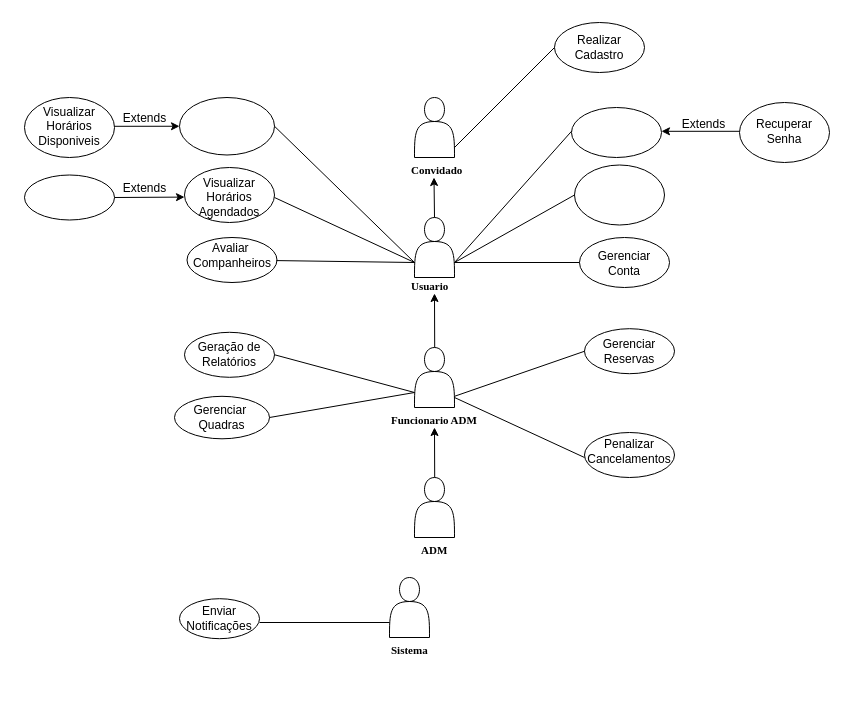
The diagram is 847 pixels wide and 709 high, and some of its shapes have lost their labels. The shapes that lost their labels are listed below. From the top down, each one's box as (x1, y1, x2, y2) in pixels, then its label:
(178, 96, 274, 155): Reservar Horário
(570, 106, 662, 158): Fazer Login
(24, 174, 114, 220): Cancelar Horário
(574, 164, 664, 225): Fazer Logout
